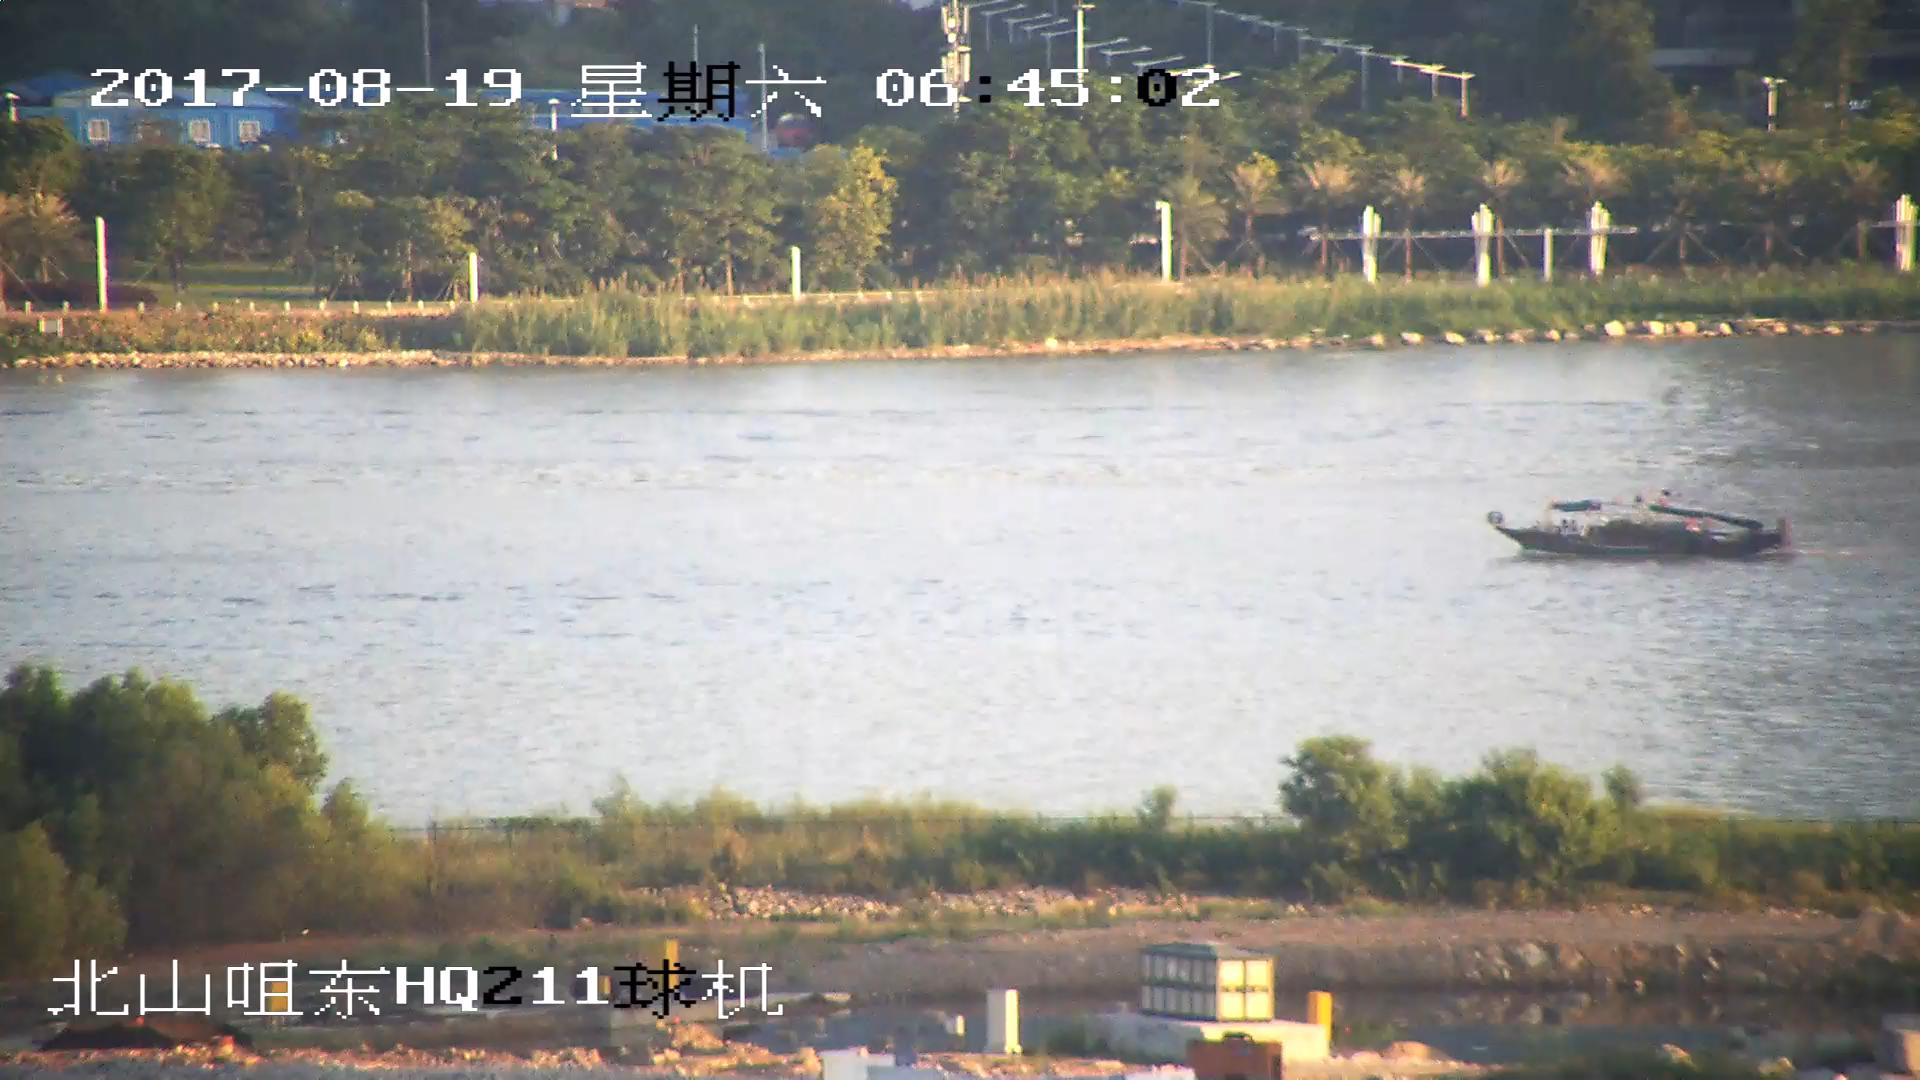fishing boat: (1487, 494, 1788, 561)
